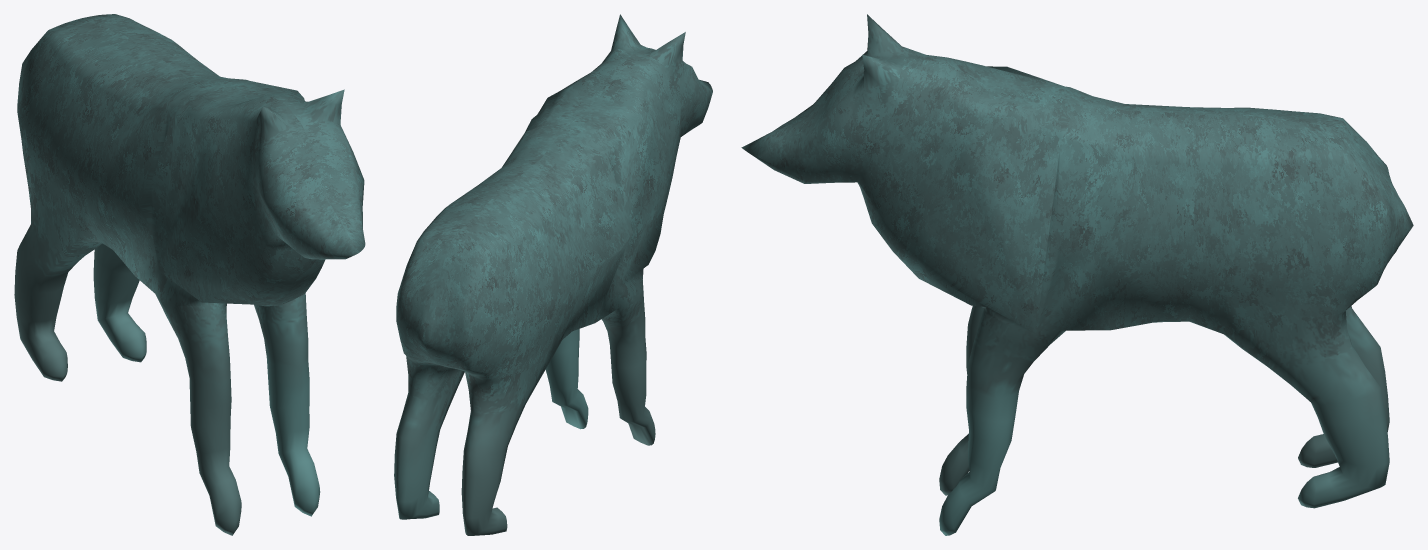
File: piesblend_000004.obj
3 renders of one model, left to right at view 1: azimuth 30°, elevation 25°; view 2: azimuth 150°, elevation 25°; view 3: azimuth 270°, elevation 25°, orthographic. The views are drawn at different scales.
Visible parts, largest first — view 1: Cube; view 2: Cube; view 3: Cube.
Part boxes in pixels (x1,y1,x2,y2): Cube: (14, 14, 365, 535); Cube: (394, 14, 712, 535); Cube: (741, 14, 1413, 535).
Bounding box in the file's own units: 2.55 × 6.95 × 8.85.
1 material, 1 textured.
